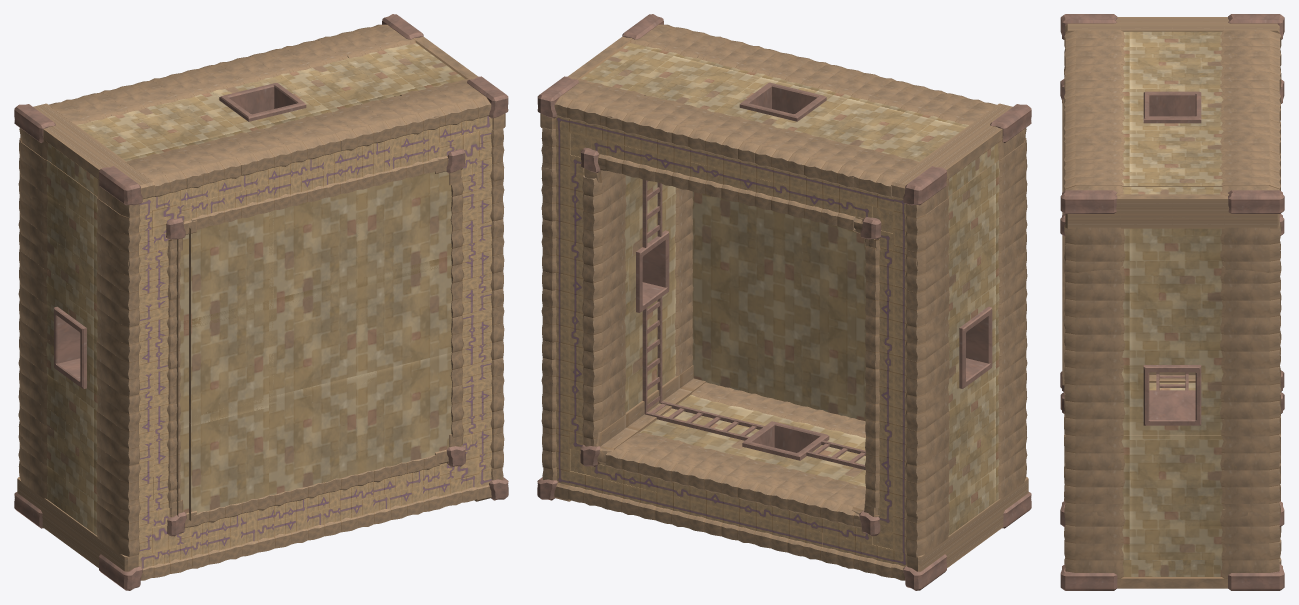
Rendered from CrossRoom_TiltingPlatforms.fbx.
The picture shows the model from 3 angles, left to right: view 1: azimuth 30°, elevation 25°; view 2: azimuth 150°, elevation 25°; view 3: azimuth 270°, elevation 25°; orthographic projection. The views are drawn at different scales.
Visible parts, largest first — view 1: RoomEdges_Cross, RoomWall_T; view 2: RoomEdges_Cross, RoomWall_T; view 3: RoomEdges_Cross, RoomWall_T.
Part boxes in pixels (x1,y1,x2,y2): RoomEdges_Cross: (14, 14, 508, 590); RoomWall_T: (176, 171, 451, 520); RoomEdges_Cross: (537, 14, 1031, 590); RoomWall_T: (692, 192, 865, 421); RoomEdges_Cross: (1060, 14, 1284, 590); RoomWall_T: (1062, 99, 1065, 385).
Size of the model in its own units: 5319 by 5321 by 2726.
7 materials, 7 textured.
